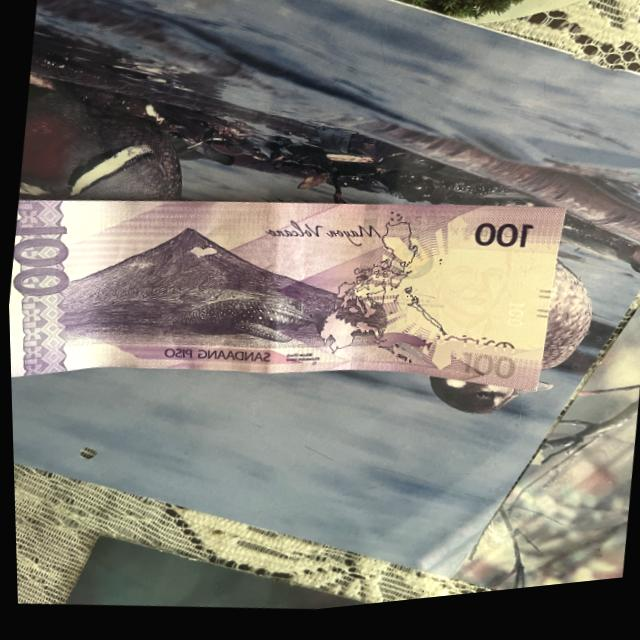100_whale: (153, 267, 387, 374)
100_whale_watermark: (351, 331, 437, 380)
value_watermark: (488, 307, 529, 350)
watermark: (404, 229, 553, 384)
